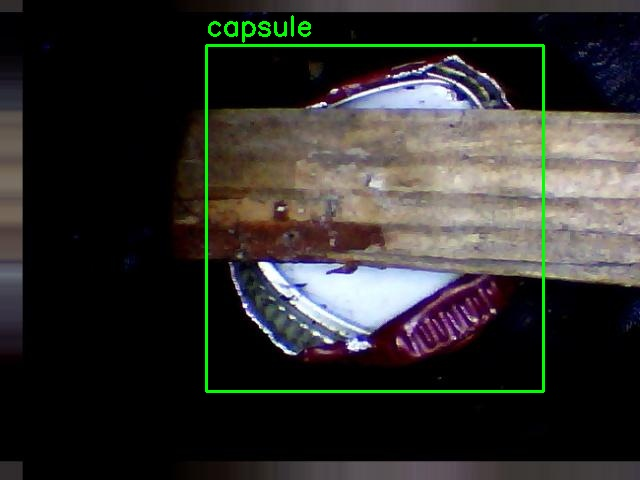capsule: (206, 45, 543, 391)
